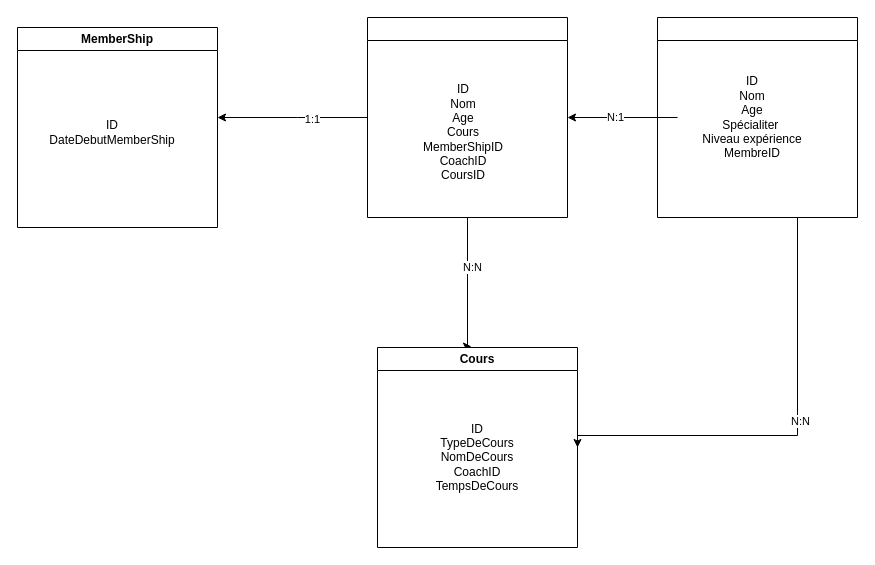
This 875x565 diagram has some shape labels left out. Here are the shapes that lost their labels. From the top down, the box of each, then its label:
(366, 16, 568, 218): Membre
(656, 16, 858, 218): Coach
